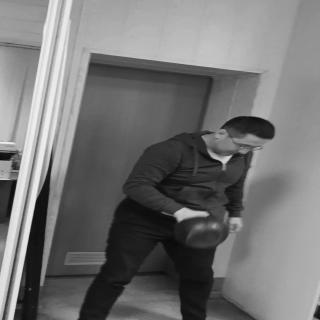girya: (175, 218, 230, 248)
